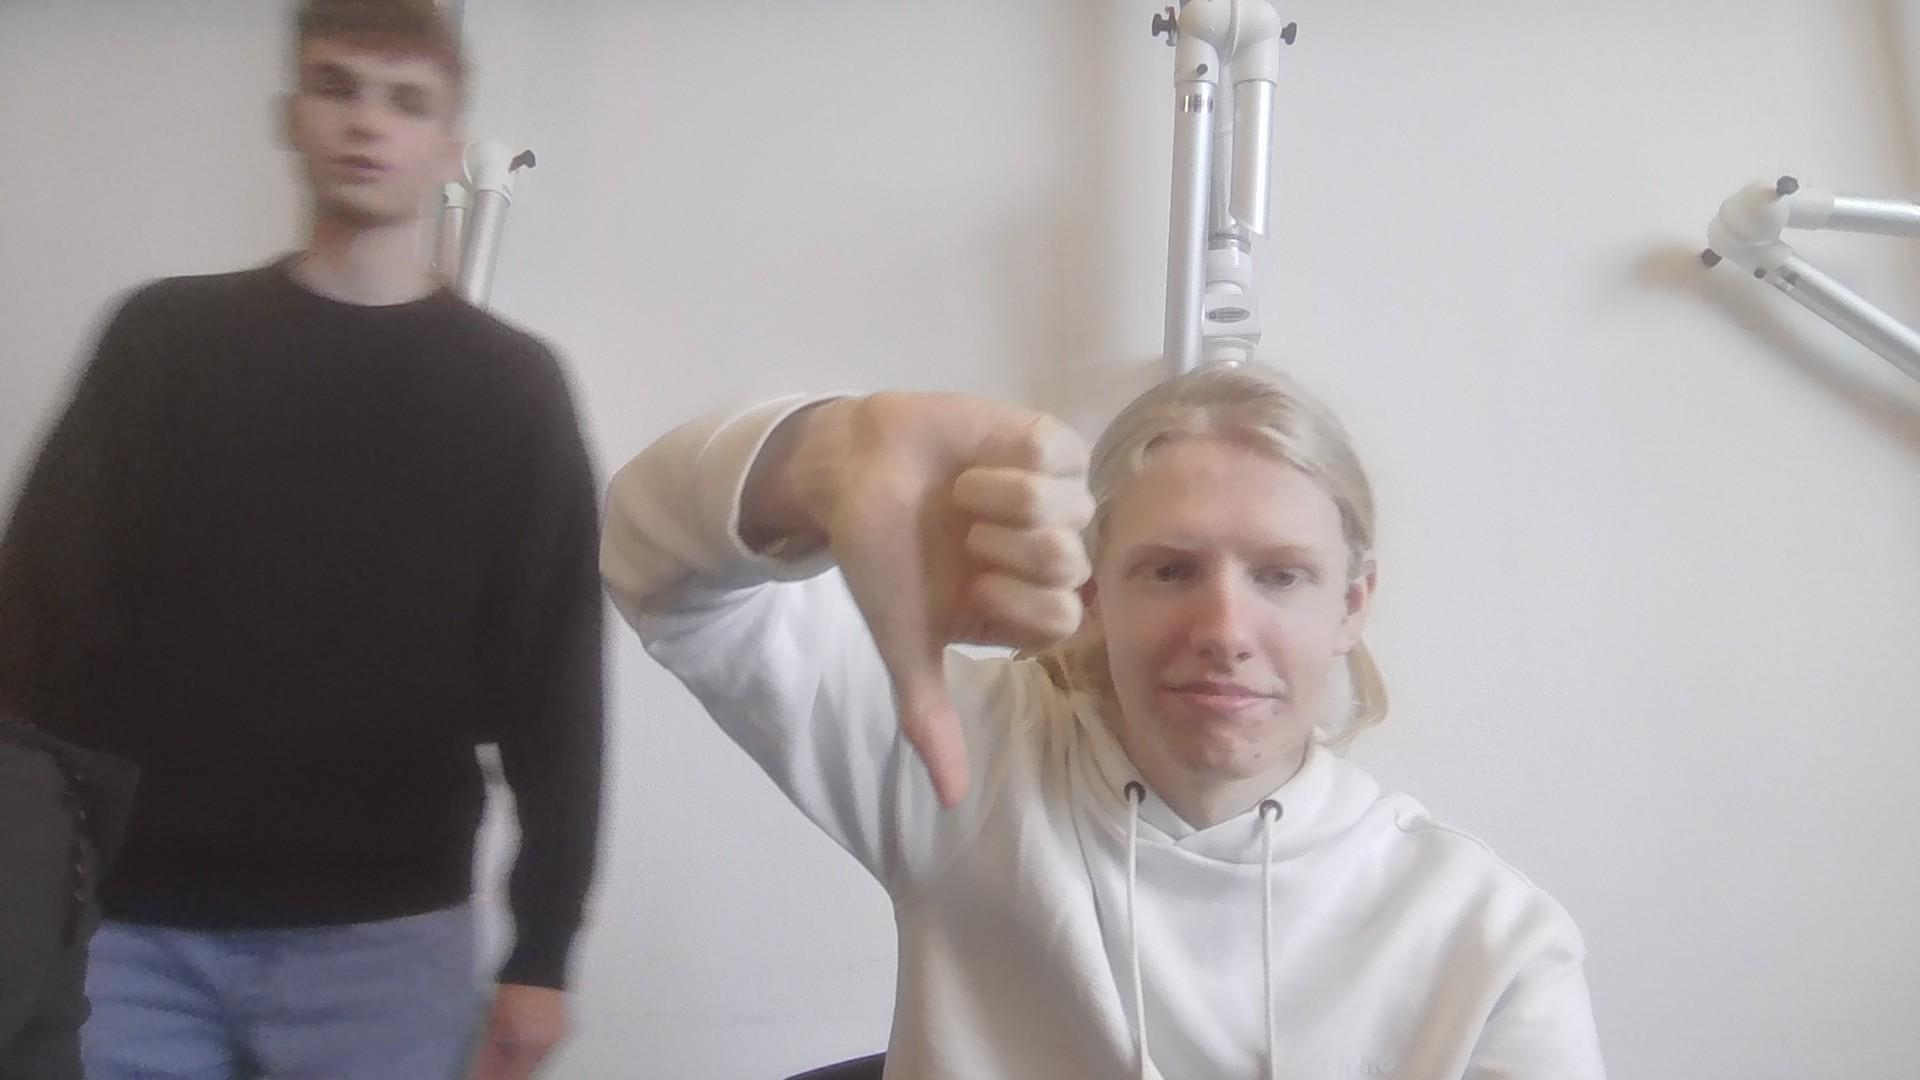thumbs down: (804, 386, 1091, 818)
